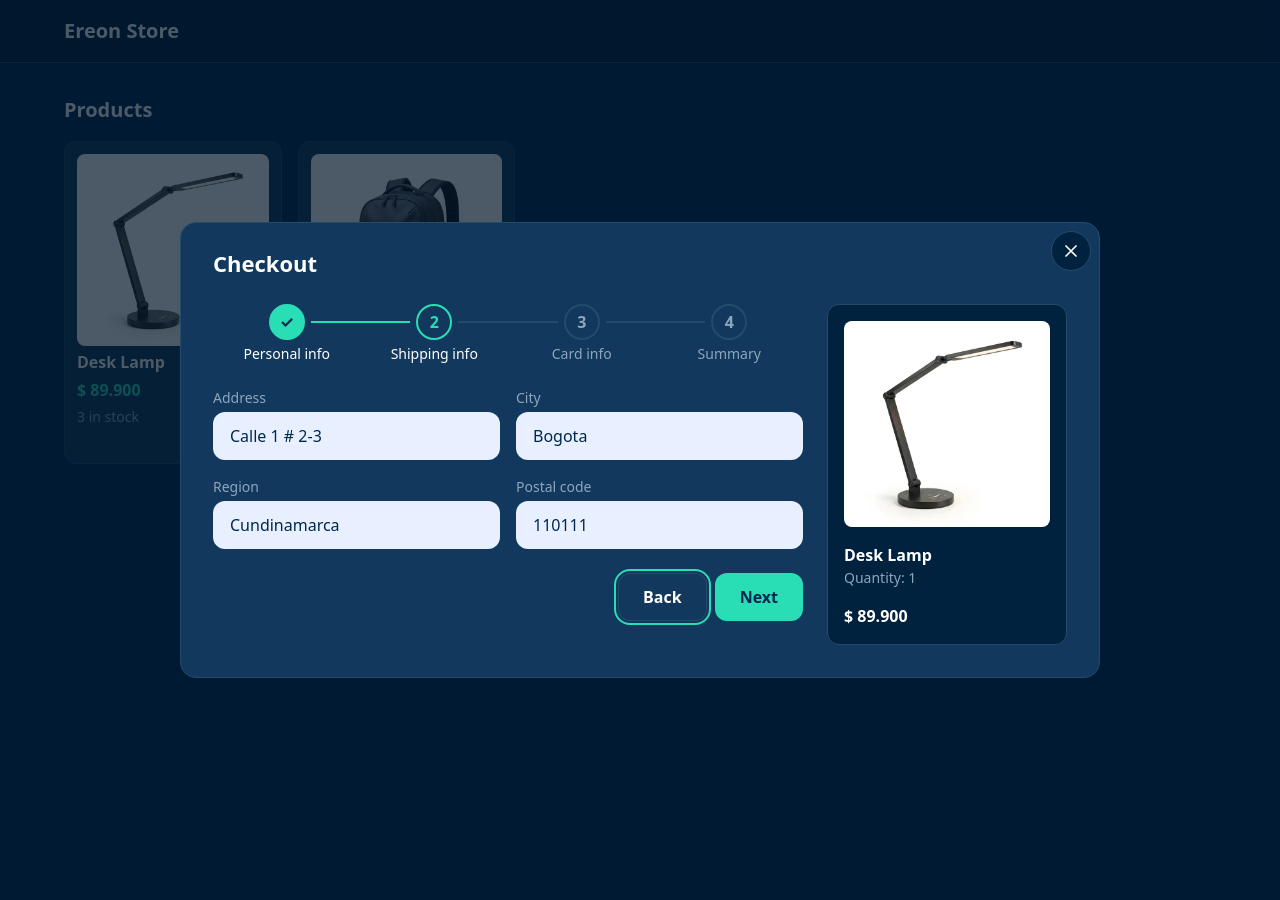
checkout modal › goes back keeping the data, from the button and from the progress indicator
Earlier steps of the test are not shown.
Expected: the field labelled "City" holds "Bogota", top-left (516, 412), bottom-right (803, 460)
Click the button "✓ Personal info": (287, 333) top-left (213, 304), bottom-right (360, 363)
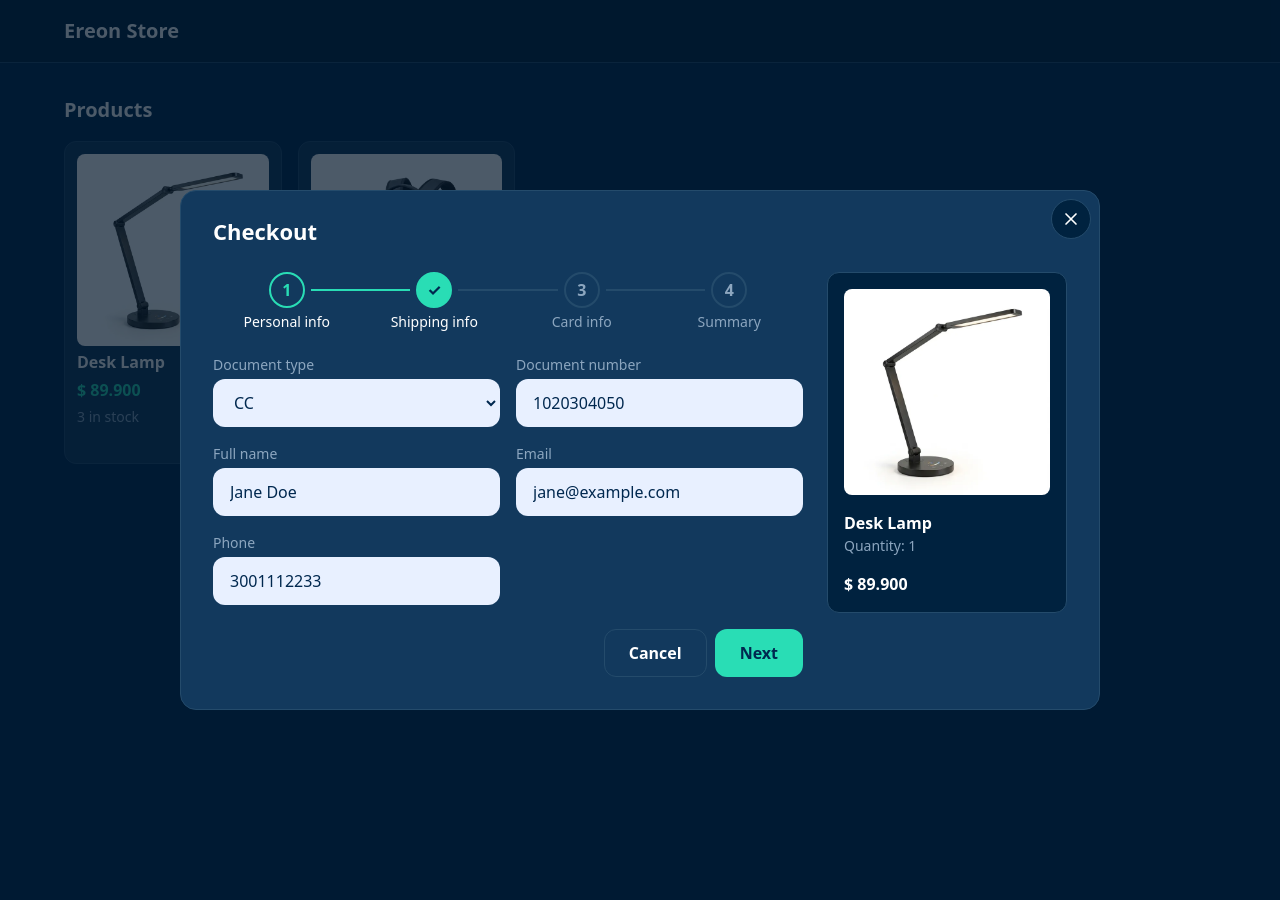
Expected: the field labelled "Full name" holds "Jane Doe", top-left (213, 468), bottom-right (500, 516)
